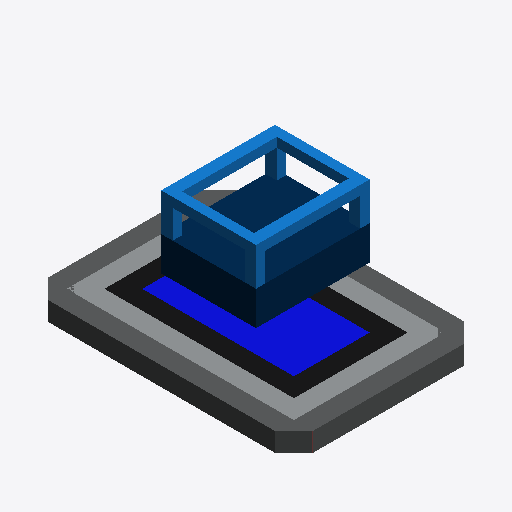
Isometric view (azimuth 45°, elevation 35.3°) of a Minecraft model made of 15 cuboids, textured from the same repository.
Parts seen in each view (by area): element 10, element 11, element 1, element 7, element 6, element 8, element 9, element 13, element 2, element 3, element 5, element 4.
Part boxes in pixels (x1,y1,x2,y2): element 10: (48,192,463,452); element 11: (48,235,463,452); element 1: (161,174,369,327); element 7: (255,179,359,250); element 6: (171,130,276,196); element 8: (173,192,252,248); element 9: (277,131,357,183); element 13: (275,420,311,452); element 2: (245,233,264,288); element 3: (161,185,181,240); element 5: (349,173,369,227); element 4: (265,125,285,179).
Bounding box in the file's own units: 10 × 7 × 14.